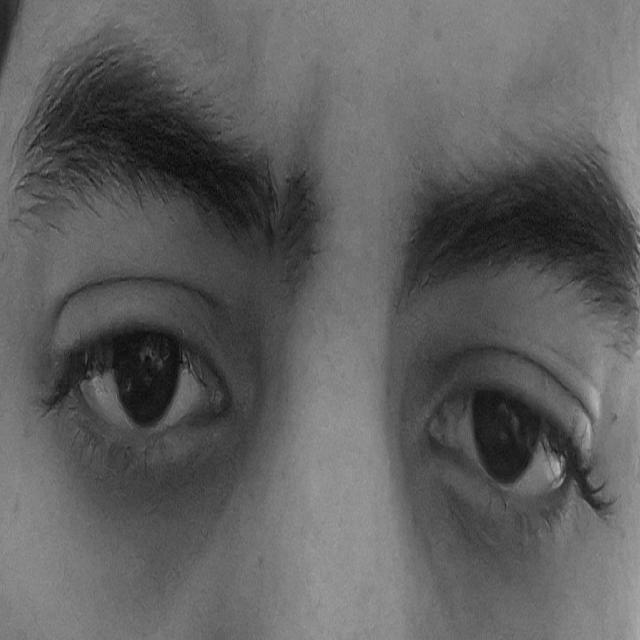real: (18, 147, 624, 592)
